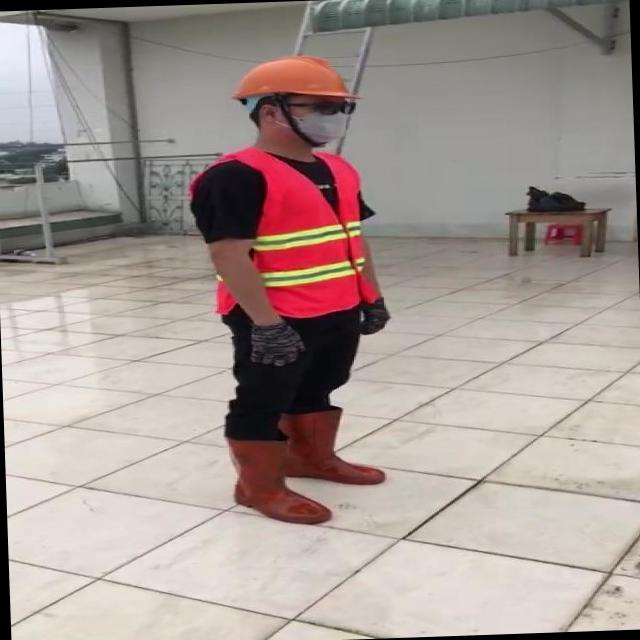boots: (217, 436, 336, 528), (281, 406, 388, 488)
gloves: (229, 292, 320, 382), (341, 268, 420, 359)
helmet: (223, 52, 363, 104)
vest: (186, 146, 380, 323)
